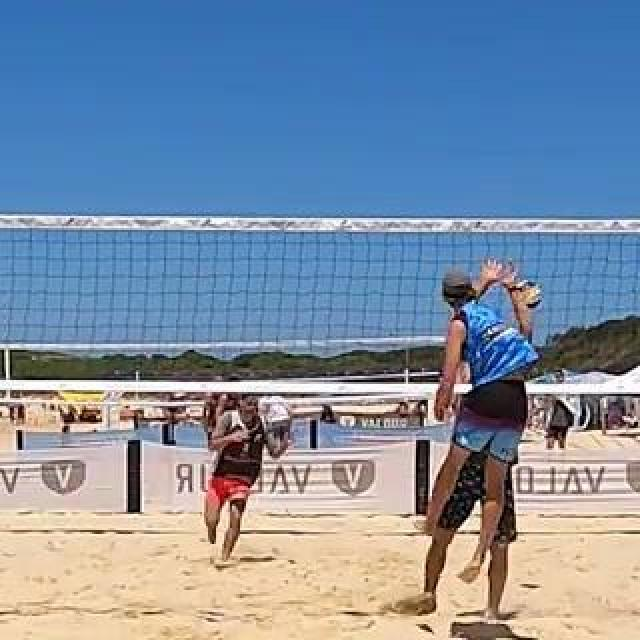volleyball: (513, 279, 543, 311)
